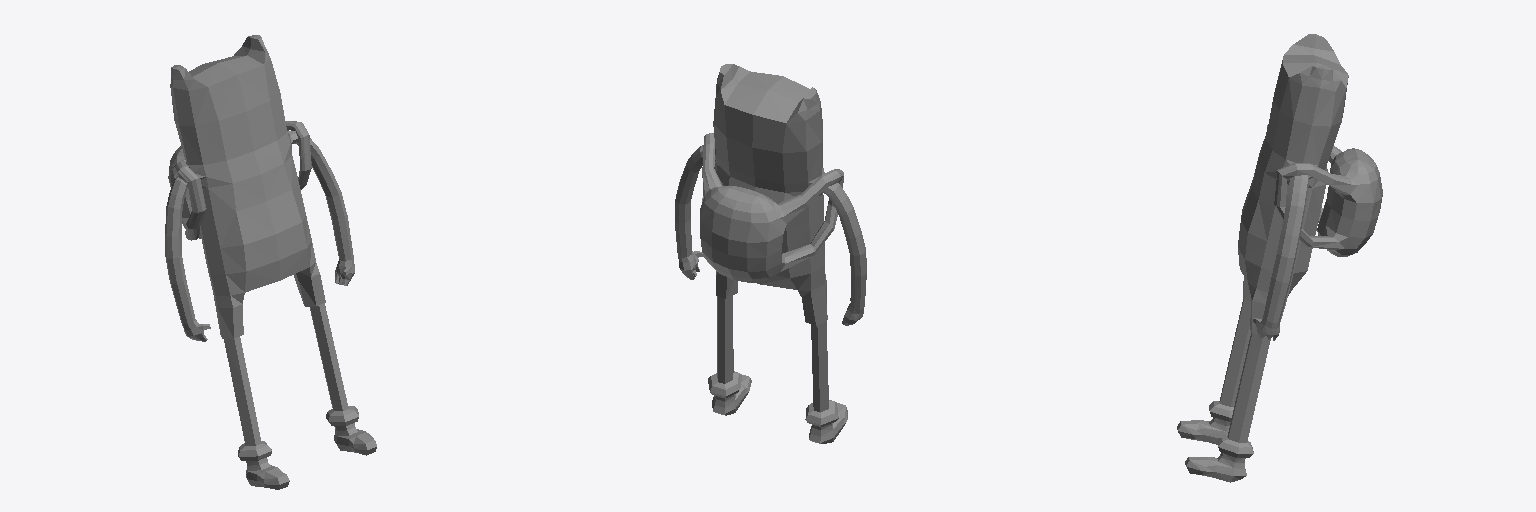
The model's file is Finn2.obj.
The picture shows the model from 3 angles: view 1: azimuth 30°, elevation 25°; view 2: azimuth 150°, elevation 25°; view 3: azimuth 270°, elevation 25°; orthographic projection.
Visible parts, largest first — view 1: Finn; view 2: Finn; view 3: Finn.
Part boxes in pixels (left/top/right/bottom): Finn: left=165, top=35, right=376, bottom=489; Finn: left=675, top=64, right=866, bottom=443; Finn: left=1177, top=34, right=1382, bottom=482.
Bounding box in the file's own units: 35.38 × 72.49 × 33.92.